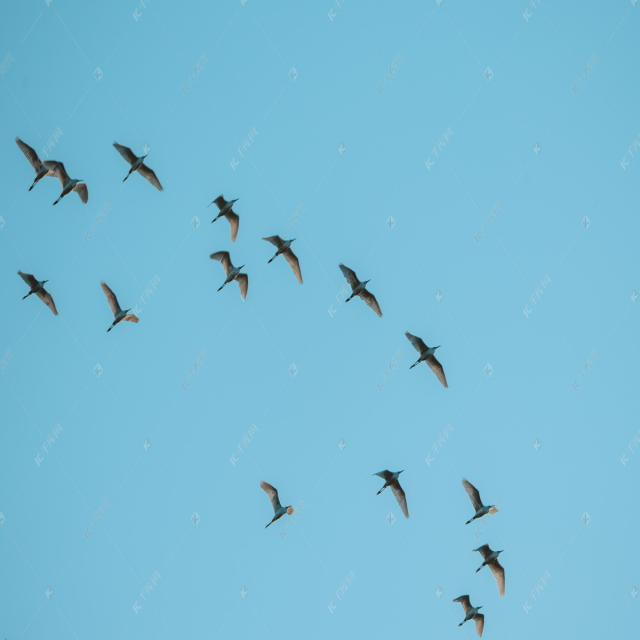bird: (340, 255, 385, 322), (115, 134, 163, 194), (258, 229, 308, 285), (100, 276, 143, 339), (16, 266, 61, 323), (206, 187, 246, 244), (410, 334, 450, 386), (461, 473, 501, 524), (212, 247, 250, 300), (50, 163, 94, 207), (372, 467, 410, 517), (475, 544, 513, 594), (15, 134, 50, 188), (450, 593, 490, 640), (258, 484, 297, 532)
